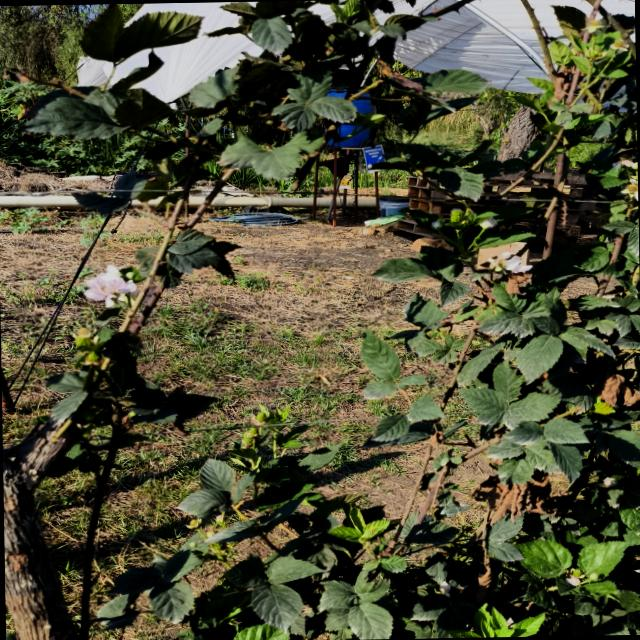flor: (84, 265, 137, 307), (484, 251, 532, 274)
